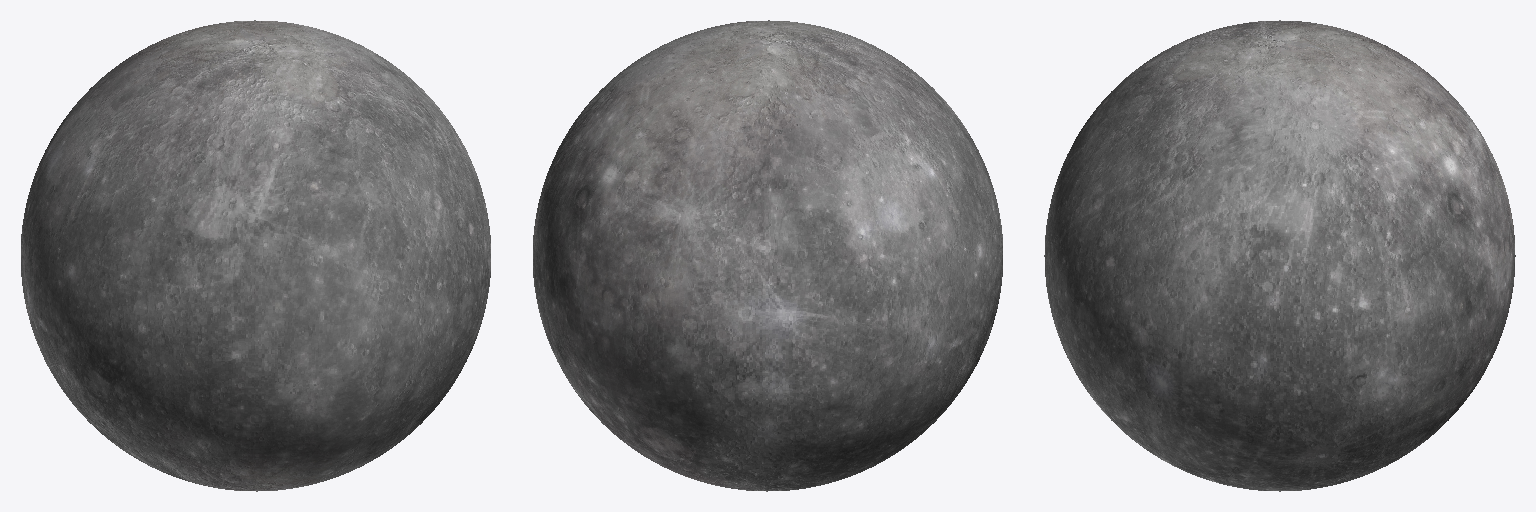
The picture shows the model from 3 angles: view 1: azimuth 30°, elevation 25°; view 2: azimuth 150°, elevation 25°; view 3: azimuth 270°, elevation 25°; orthographic projection.
Visible parts, largest first — view 1: Sphere; view 2: Sphere; view 3: Sphere.
Part boxes in pixels (x1,y1,x2,y2): Sphere: (21,20,490,491); Sphere: (533,20,1002,491); Sphere: (1044,20,1515,491).
Bounding box in the file's own units: 1.05 × 1.05 × 1.05.
Materials: 1 (1 with a texture image).